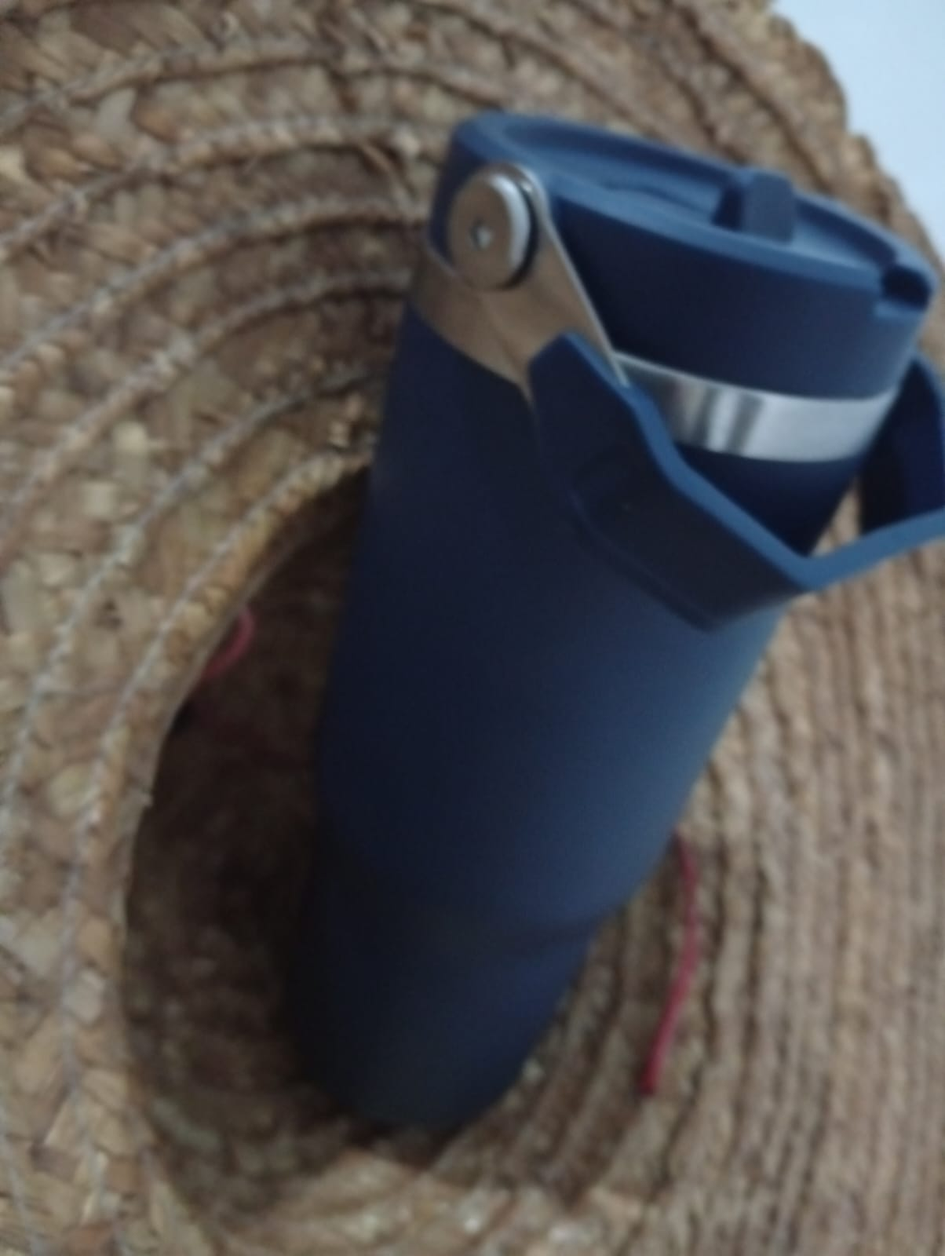Tupperware: (253, 83, 945, 1176)
